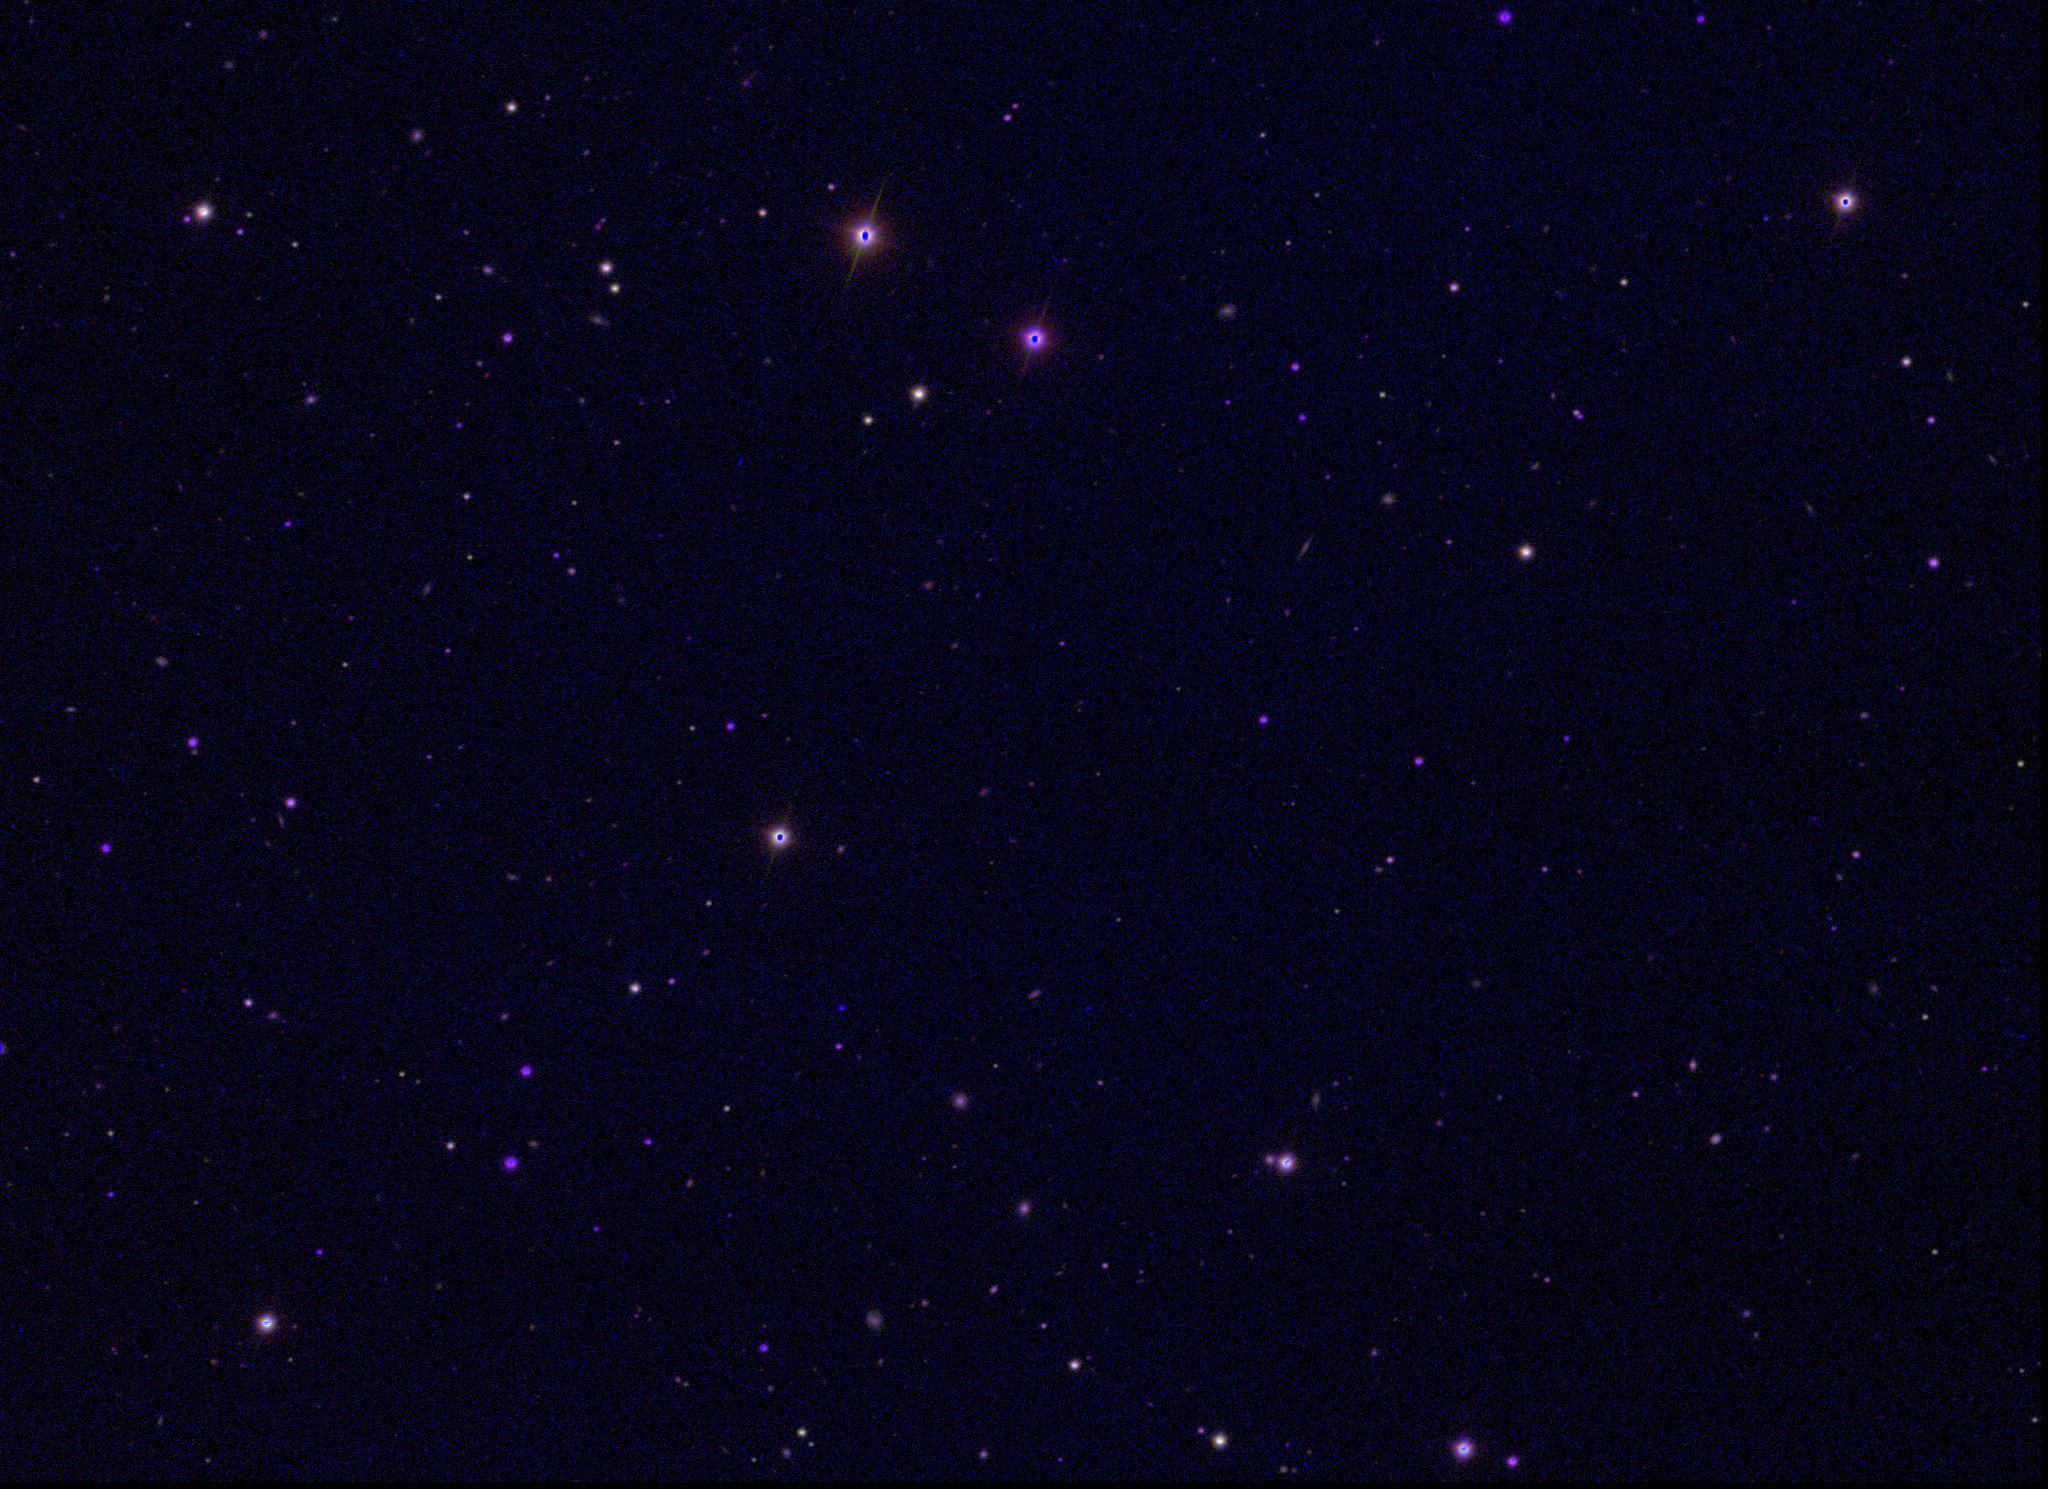L: (835, 1002, 848, 1017)
